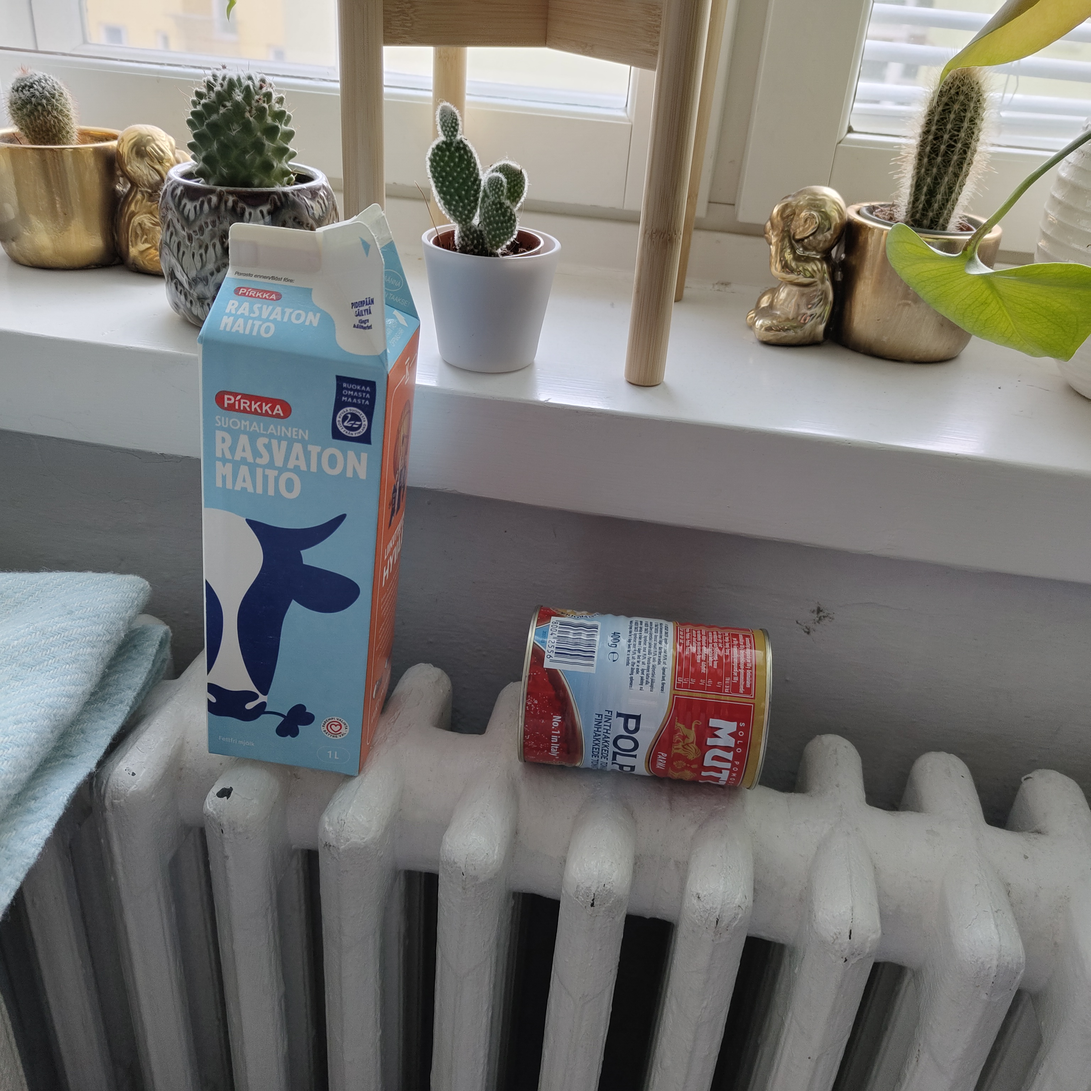Dryckeskartong: (198, 204, 422, 776)
Konservburk: (515, 605, 773, 791)
